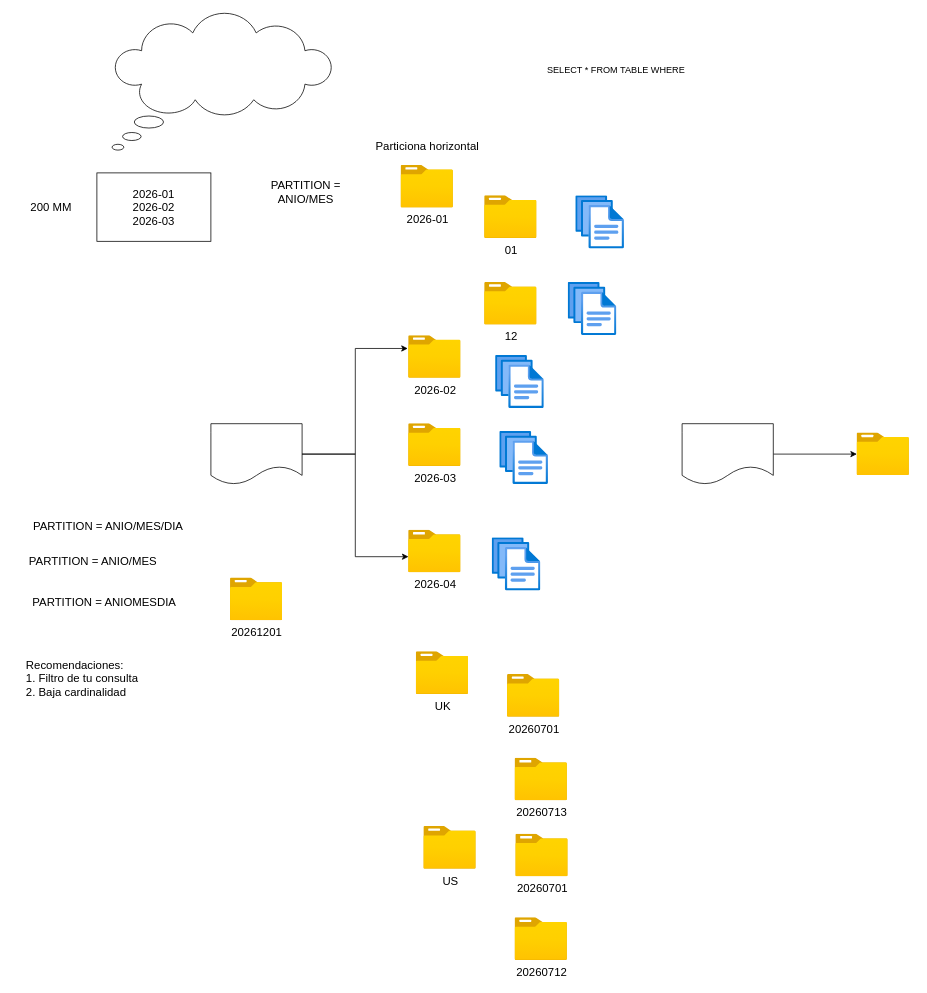
The diagram is 927 pixels wide and 993 high, and some of its shapes have lost their labels. The shapes that lost their labels are listed below. From the top down, each one's box as (x1, y1, x2, y2) in pixels, then its label:
(111, 13, 332, 150): Particionamiento Vertical y Horizontal
(210, 423, 302, 484): READ INSERT
(857, 432, 909, 475): Sin particion
